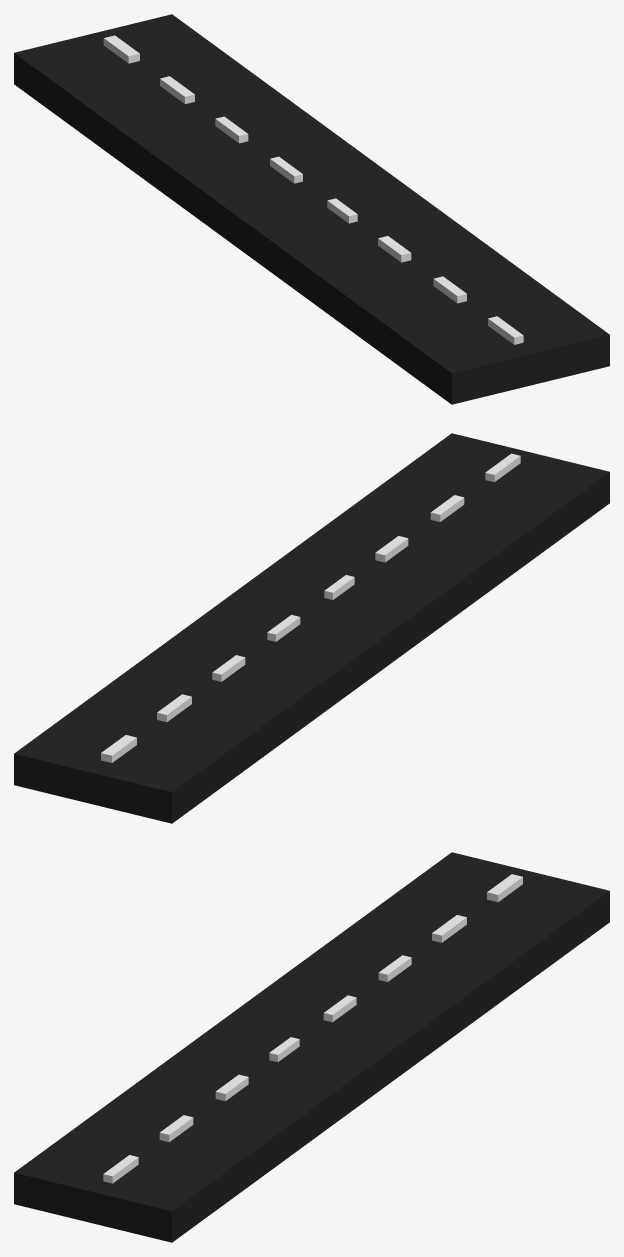
File: Vej222.fbx
3 renders of one model, top to bottom at view 1: azimuth 30°, elevation 25°; view 2: azimuth 150°, elevation 25°; view 3: azimuth 330°, elevation 25°, orthographic.
Visible parts, largest first — view 1: Plane.001; view 2: Plane.001; view 3: Plane.001.
Boxes of the visible parts, x1=… form: Plane.001: x1=14, y1=14, x2=609, y2=404; Plane.001: x1=14, y1=433, x2=609, y2=823; Plane.001: x1=14, y1=852, x2=609, y2=1242.
Size of the model in its own units: 533 by 125 by 2557.
